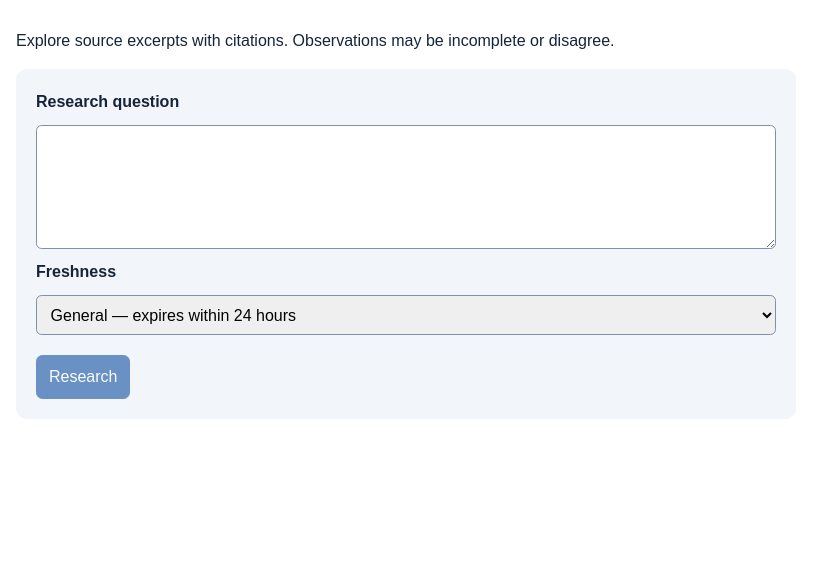
Test case: research page › shows cited excerpts, freshness and the synthetic demo label
Type "Synthetic star color?" into the text box labelled "Research question".
click(406, 187); type("Synthetic star color?")  # box x1=36 y1=125 x2=776 y2=249
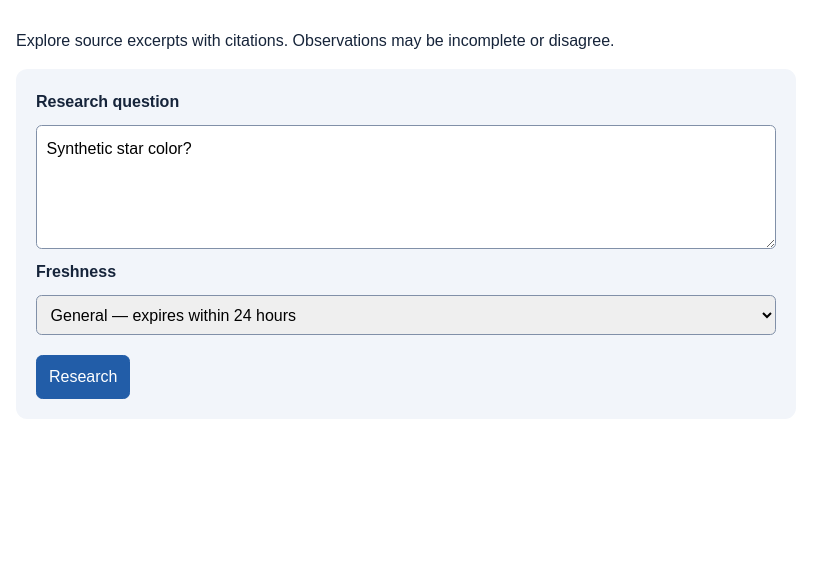
Click the button "Research".
click(83, 377)  # box x1=36 y1=355 x2=130 y2=399
(page scrolled)
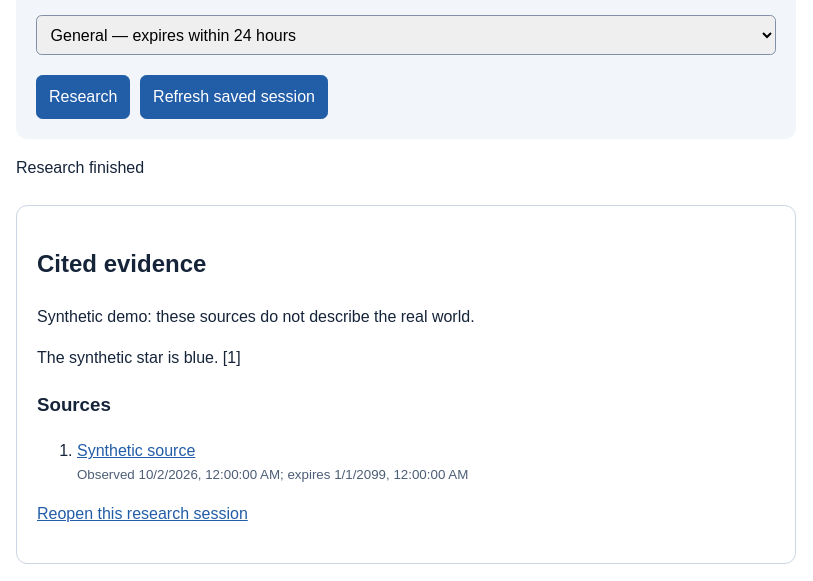
Check: the text "The synthetic star is blue. [1]" is shown, box x1=37 y1=349 x2=241 y2=366
Check: the text "Synthetic demo" is shown, box x1=37 y1=308 x2=475 y2=325
